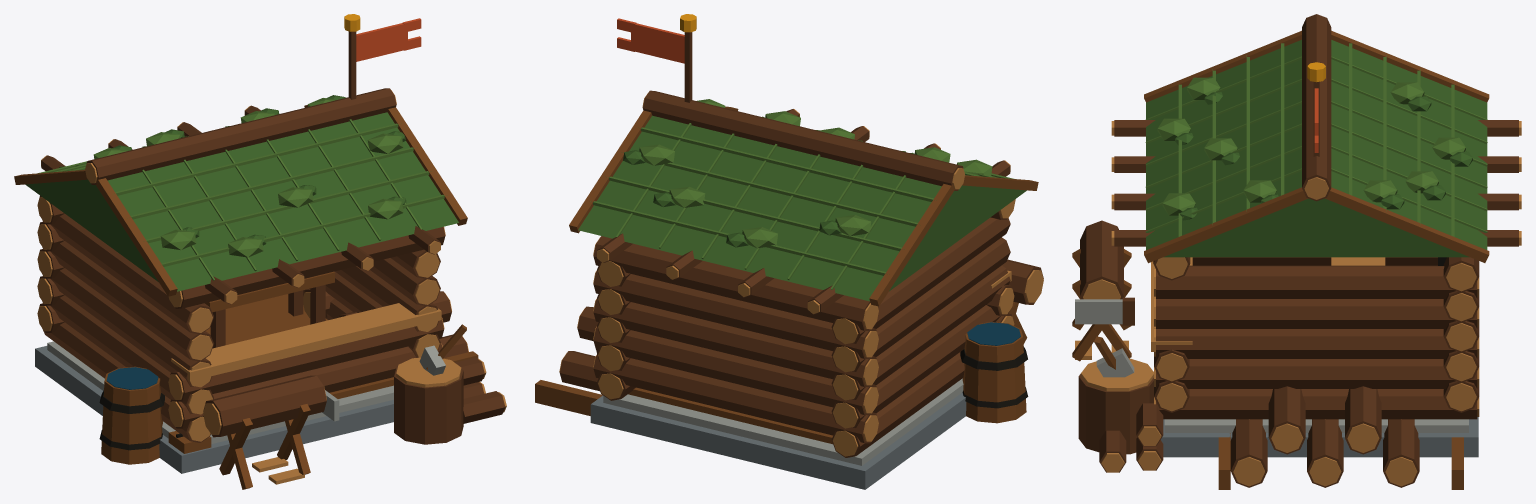
The model's file is lumberyard.glb.
3 views of the same model, side by side, from view 1: azimuth 30°, elevation 25°; view 2: azimuth 150°, elevation 25°; view 3: azimuth 270°, elevation 25° (orthographic). The views are drawn at different scales.
Visible parts, largest first — view 1: Bench leg, Roof, Billet end.001, Axe handle, Roof grass, Sill stones, Sill cap, Pennant, Barrel band.001, Barrel water; view 2: Bench leg, Roof, Axe handle, Roof grass, Sill stones, Billet end.001, Sill cap, Pennant, Barrel band.001, Barrel water; view 3: Bench leg, Roof, Billet end.001, Roof grass, Axe handle, Sill cap, Sill stones.
Boxes of the visible parts, left/top/right/bottom form: Bench leg: left=39, top=31, right=505, bottom=444; Roof: left=25, top=95, right=458, bottom=291; Billet end.001: left=37, top=90, right=506, bottom=484; Axe handle: left=14, top=105, right=478, bottom=489; Roof grass: left=38, top=98, right=447, bottom=280; Sill stones: left=35, top=346, right=393, bottom=473; Sill cap: left=47, top=341, right=445, bottom=443; Pennant: left=356, top=18, right=421, bottom=61; Barrel band.001: left=99, top=390, right=183, bottom=450; Barrel water: left=106, top=367, right=158, bottom=389; Bench leg: left=559, top=32, right=1043, bottom=457; Roof: left=578, top=115, right=1026, bottom=301; Axe handle: left=535, top=106, right=1038, bottom=444; Roof grass: left=590, top=99, right=1013, bottom=289; Sill stones: left=590, top=392, right=966, bottom=489; Billet end.001: left=559, top=93, right=1043, bottom=456; Sill cap: left=603, top=378, right=963, bottom=465; Pennant: left=617, top=18, right=684, bottom=63; Barrel band.001: left=960, top=346, right=1028, bottom=408; Barrel water: left=967, top=322, right=1020, bottom=345; Bench leg: left=1078, top=14, right=1518, bottom=487; Roof: left=1146, top=40, right=1487, bottom=257; Billet end.001: left=1075, top=121, right=1521, bottom=486; Roof grass: left=1145, top=43, right=1487, bottom=236; Axe handle: left=1072, top=30, right=1489, bottom=489; Sill cap: left=1075, top=299, right=1468, bottom=432; Sill stones: left=1160, top=417, right=1478, bottom=457.
Size of the model in its own units: 3.82 by 3.42 by 3.66.
